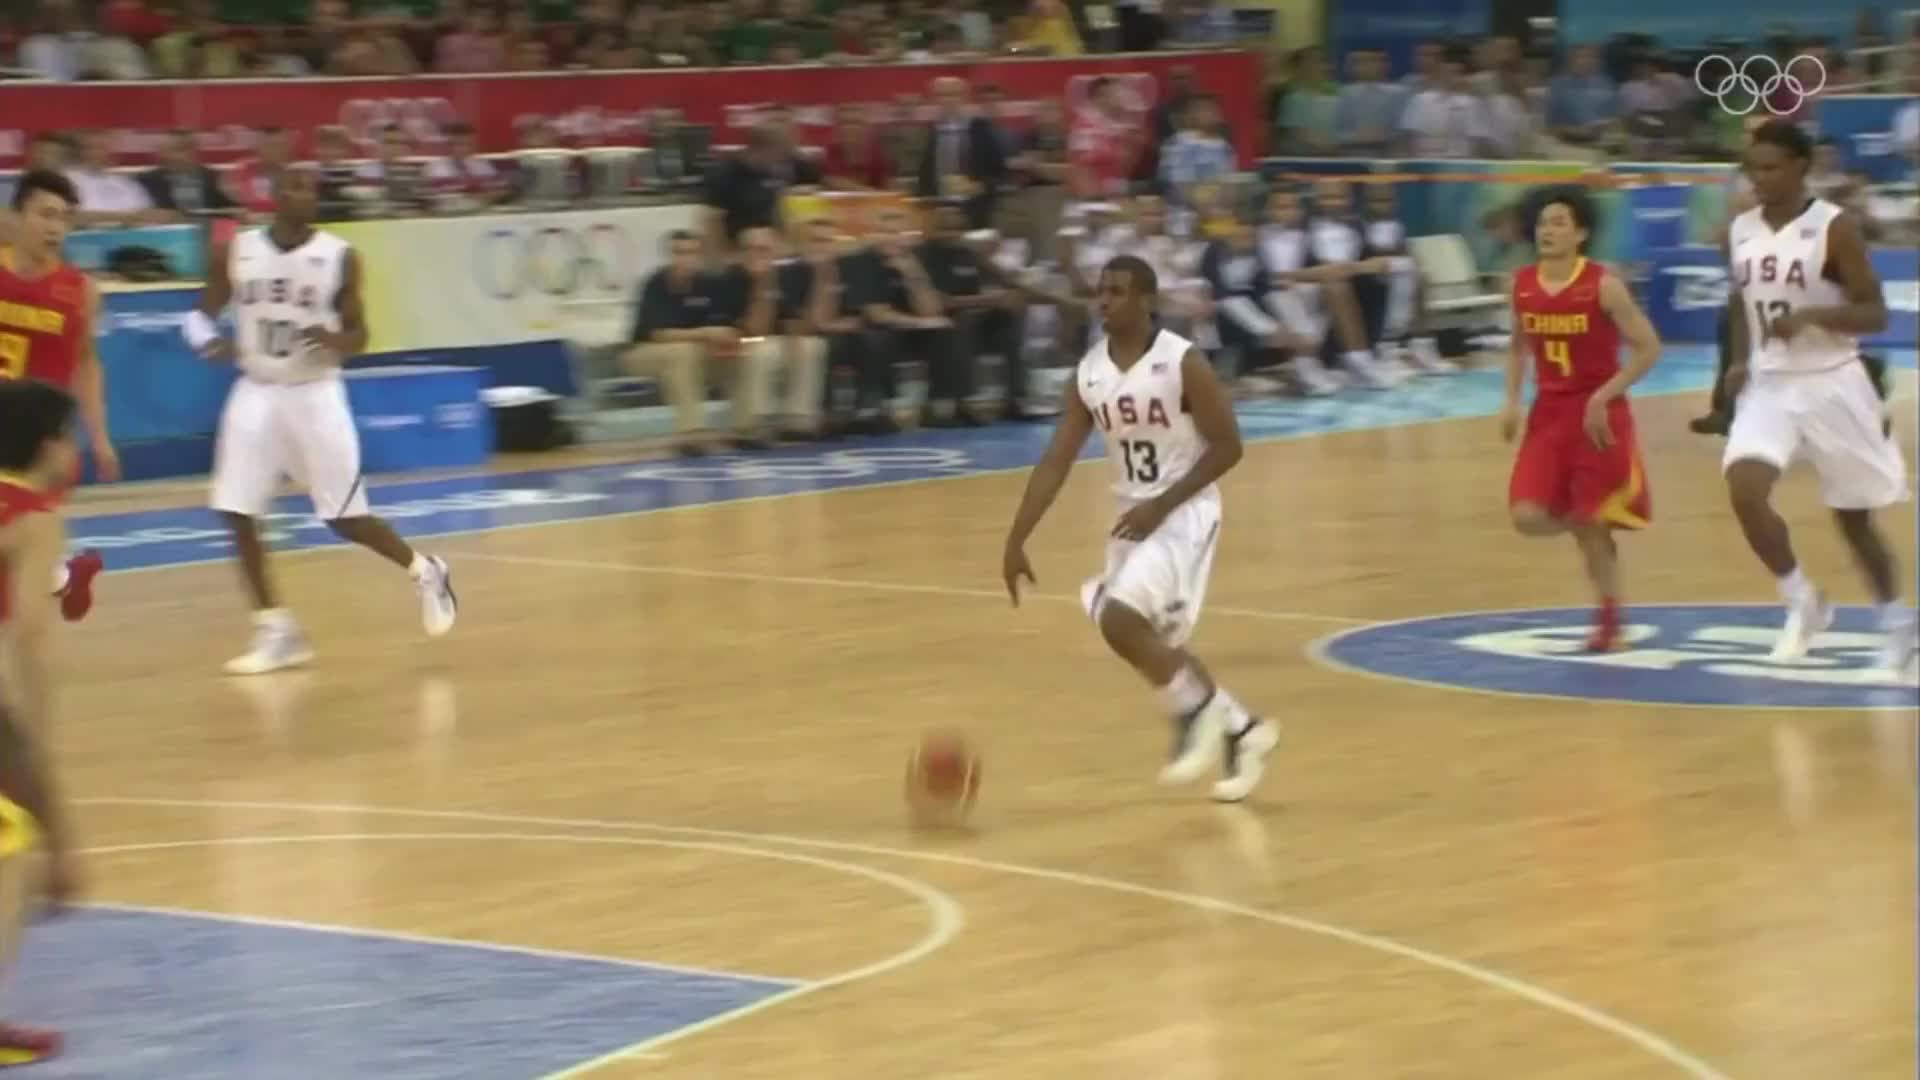ball: (881, 723, 997, 833)
